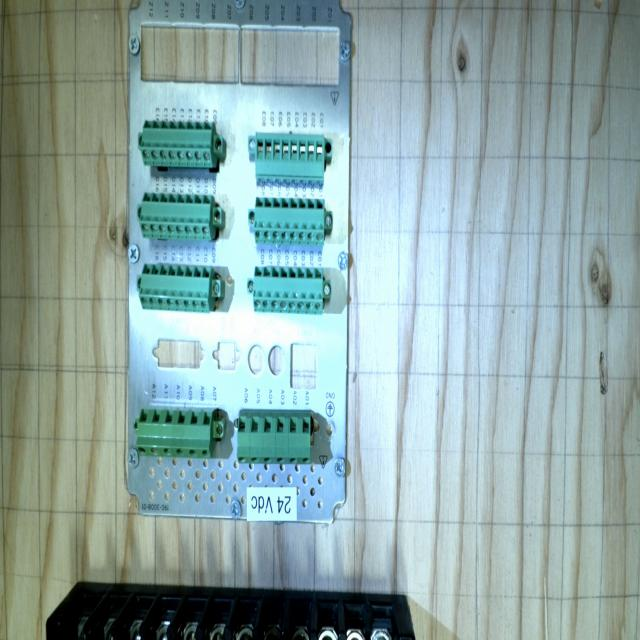Terminal_1: (135, 408, 213, 458), (237, 415, 311, 464)
Terminal_2: (138, 264, 212, 313), (252, 265, 324, 315), (139, 192, 213, 240), (254, 197, 325, 246), (140, 121, 214, 168)
